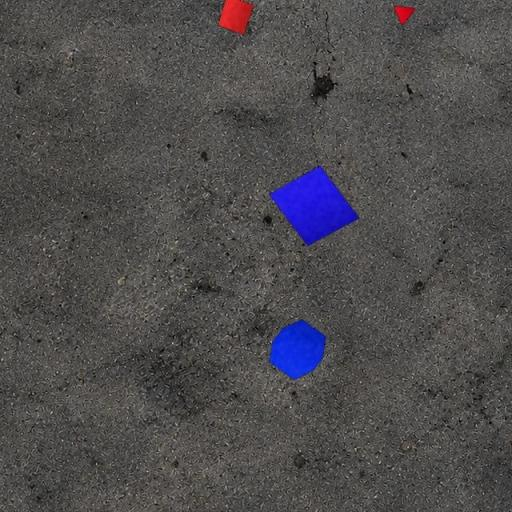BLUE_SQUARE: (268, 165, 360, 246)
RED_SQUARE: (217, 0, 254, 36)
